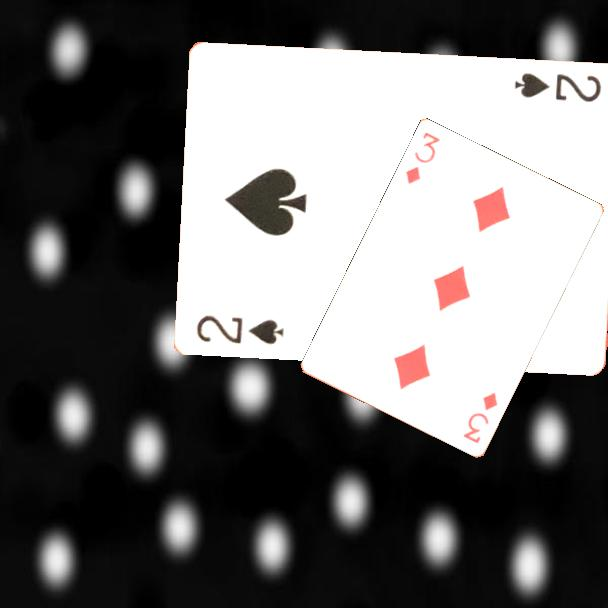d03: (402, 129, 443, 188), (460, 389, 501, 447)
s02: (193, 311, 287, 347), (511, 69, 604, 104)
